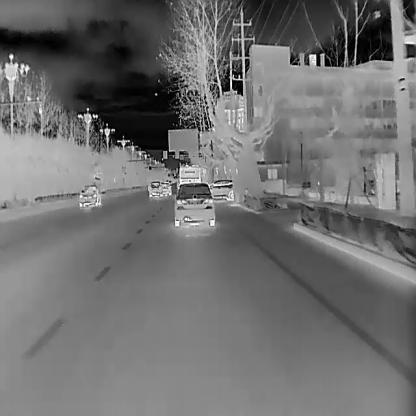car: (173, 182, 215, 226), (208, 178, 234, 200), (78, 185, 101, 207), (178, 166, 200, 184), (148, 180, 163, 198), (159, 180, 171, 195)
